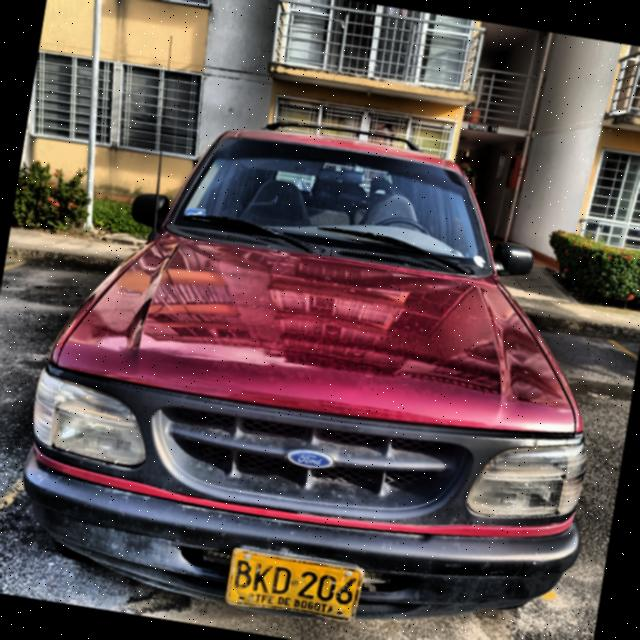0: (316, 573, 338, 603)
2: (297, 569, 319, 600)
6: (334, 576, 357, 606)
B: (232, 559, 255, 591)
D: (270, 564, 292, 596)
K: (251, 562, 274, 594)
